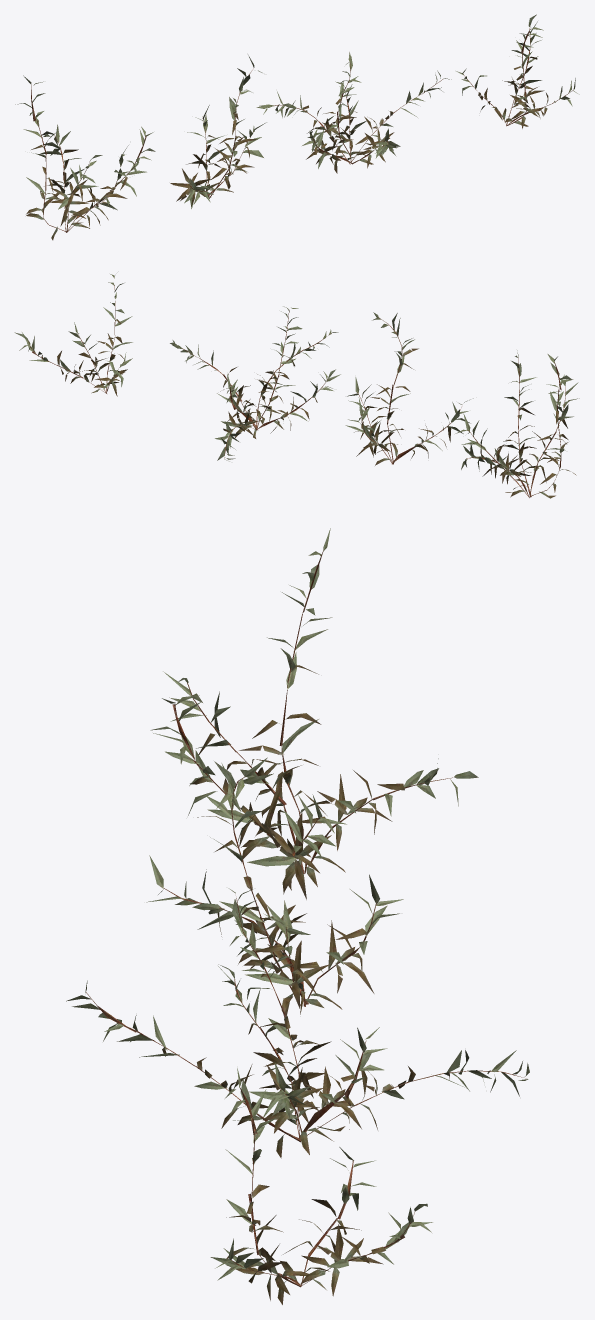
Rendered from shrub_02.glb.
The picture shows the model from 3 angles, top to bottom: view 1: azimuth 30°, elevation 25°; view 2: azimuth 150°, elevation 25°; view 3: azimuth 270°, elevation 25°; orthographic projection. The views are drawn at different scales.
Visible parts, largest first — view 1: shrub_02_a; view 2: shrub_02_a; view 3: shrub_02_a.
Part boxes in pixels (x1=…): shrub_02_a: x1=15, y1=14, x2=579, y2=240; shrub_02_a: x1=14, y1=274, x2=579, y2=498; shrub_02_a: x1=66, y1=528, x2=529, y2=1304.
Bounding box in the file's own units: 6.03 × 1.7 × 2.28.
Materials: 1 (1 with a texture image).
